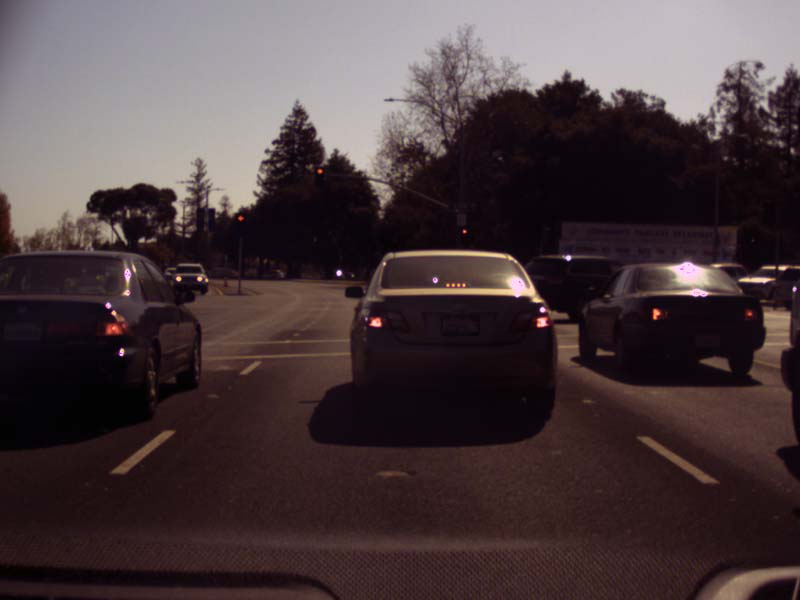Red: (235, 212, 247, 235), (314, 168, 325, 188), (460, 226, 467, 246)
